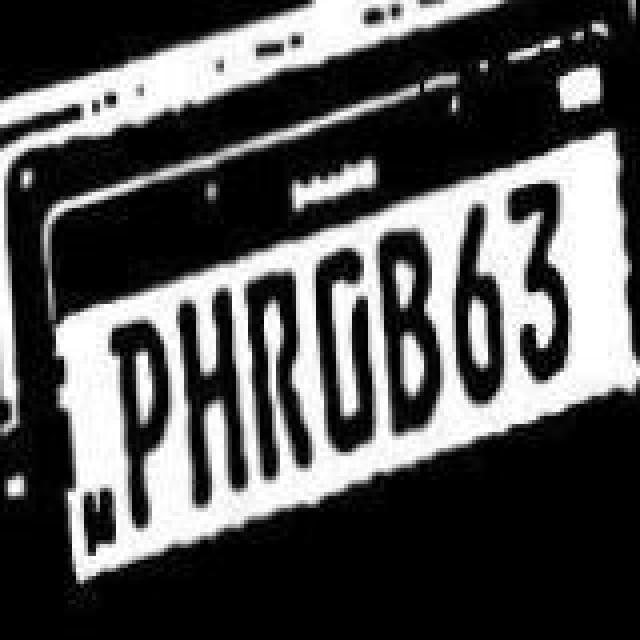3: (504, 172, 576, 388)
6: (450, 194, 510, 414)
B: (372, 222, 444, 442)
D: (312, 244, 376, 456)
H: (176, 280, 252, 512)
P: (108, 316, 176, 532)
R: (240, 260, 312, 488)
